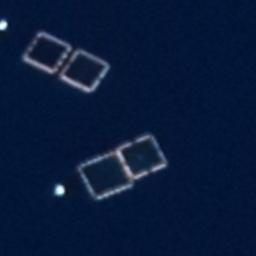square_solid: (73, 144, 140, 202), (18, 27, 83, 80), (52, 45, 117, 98), (112, 130, 172, 181)
